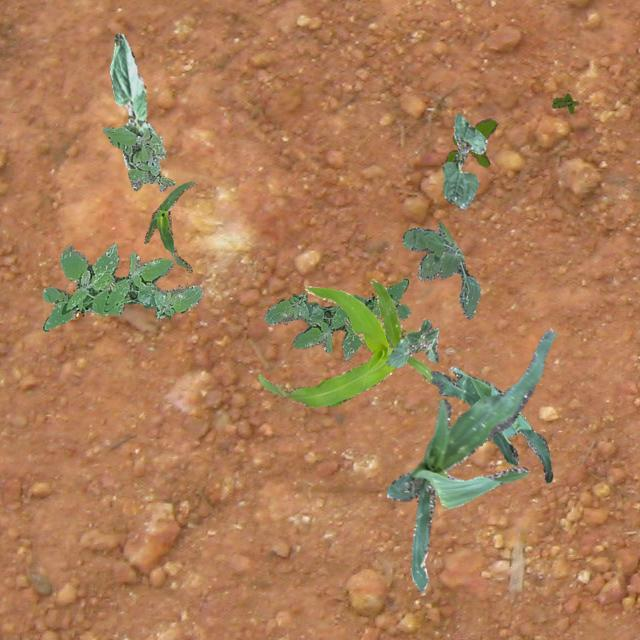crop: (386, 329, 554, 592), (256, 278, 430, 407), (429, 364, 552, 482), (109, 32, 163, 168), (143, 180, 195, 272), (442, 112, 486, 208), (384, 318, 438, 366)
weed: (42, 242, 202, 330), (264, 278, 408, 360), (402, 220, 479, 318), (102, 126, 174, 190), (444, 118, 496, 166), (552, 92, 578, 112)
